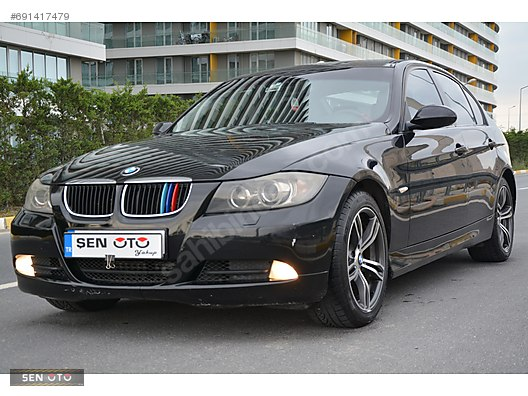bmw: (10, 58, 519, 334)
